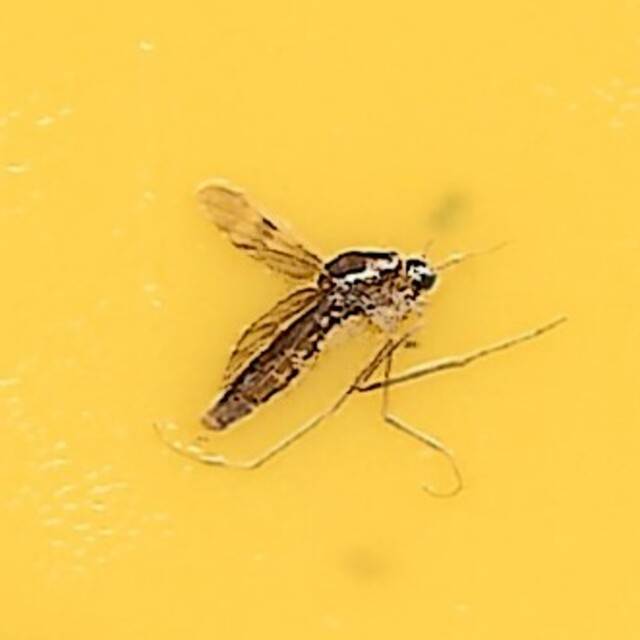Nematocera: (193, 176, 447, 464)
